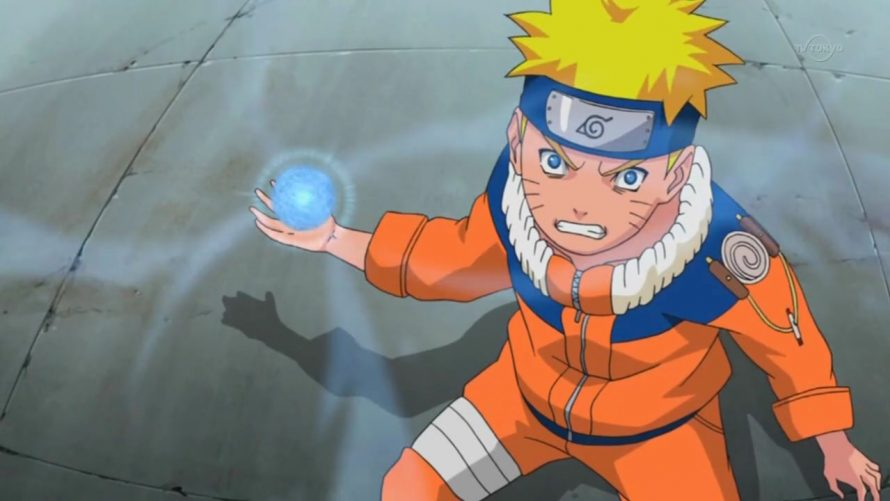naruto: (504, 62, 704, 261)
